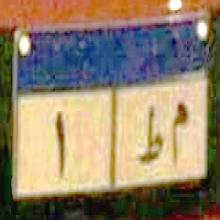1: (52, 104, 71, 184)
Taa: (135, 102, 164, 172)
meem: (169, 94, 191, 170)
